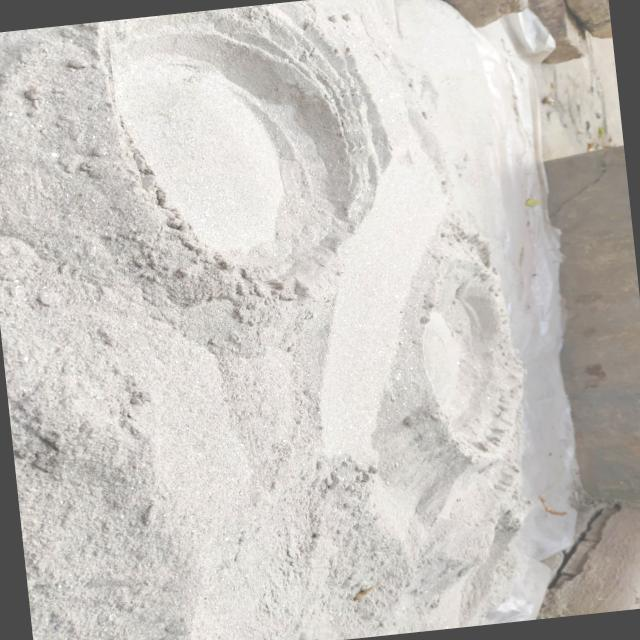C20: (106, 6, 367, 287), (422, 289, 521, 453)
